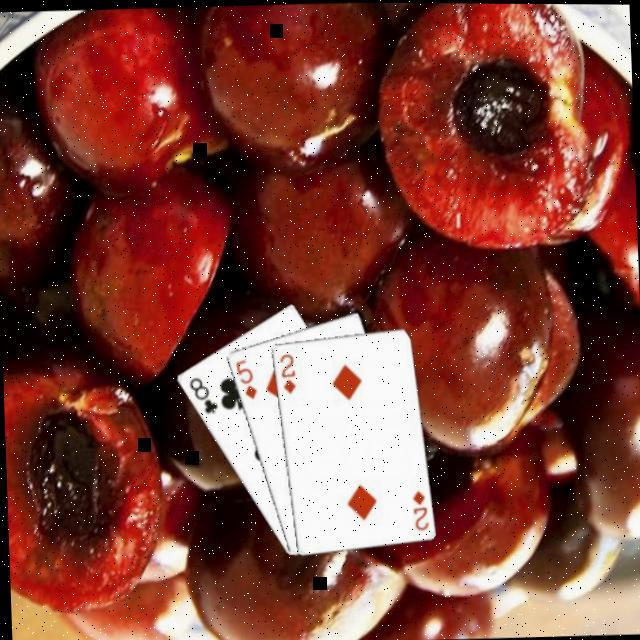2D: (276, 349, 300, 396), (409, 486, 432, 534)
5D: (232, 356, 260, 402)
8C: (186, 374, 221, 416)
